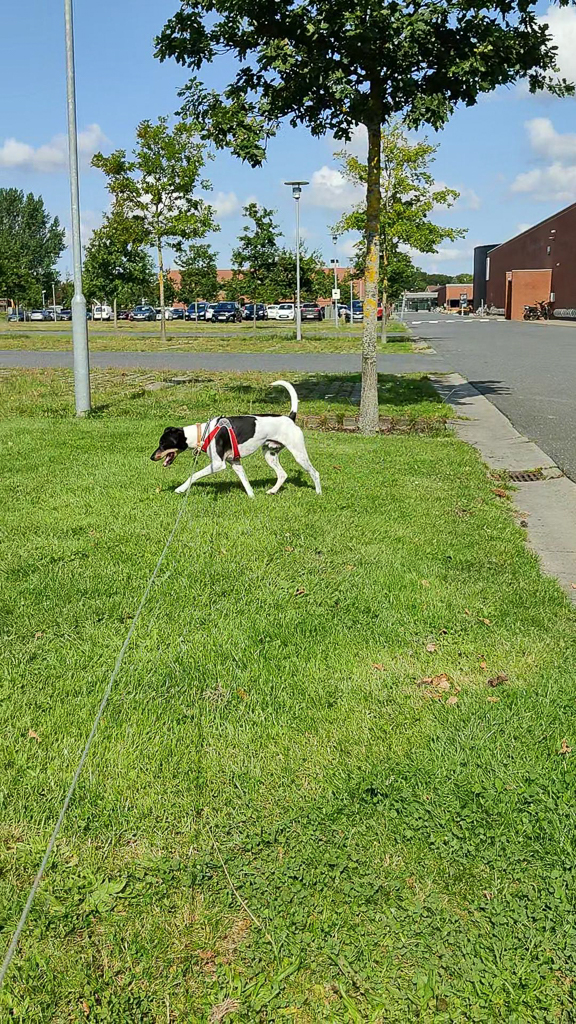Dog: (137, 375, 329, 505)
